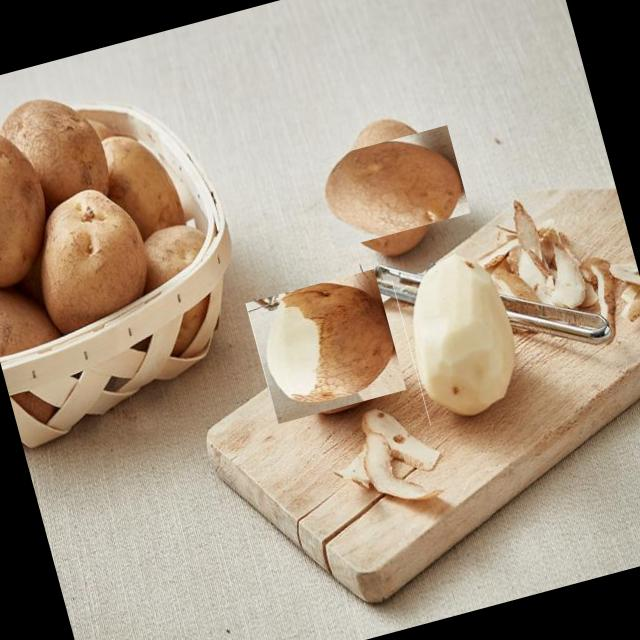potato: (247, 267, 406, 425), (392, 254, 530, 425), (322, 115, 462, 256)
